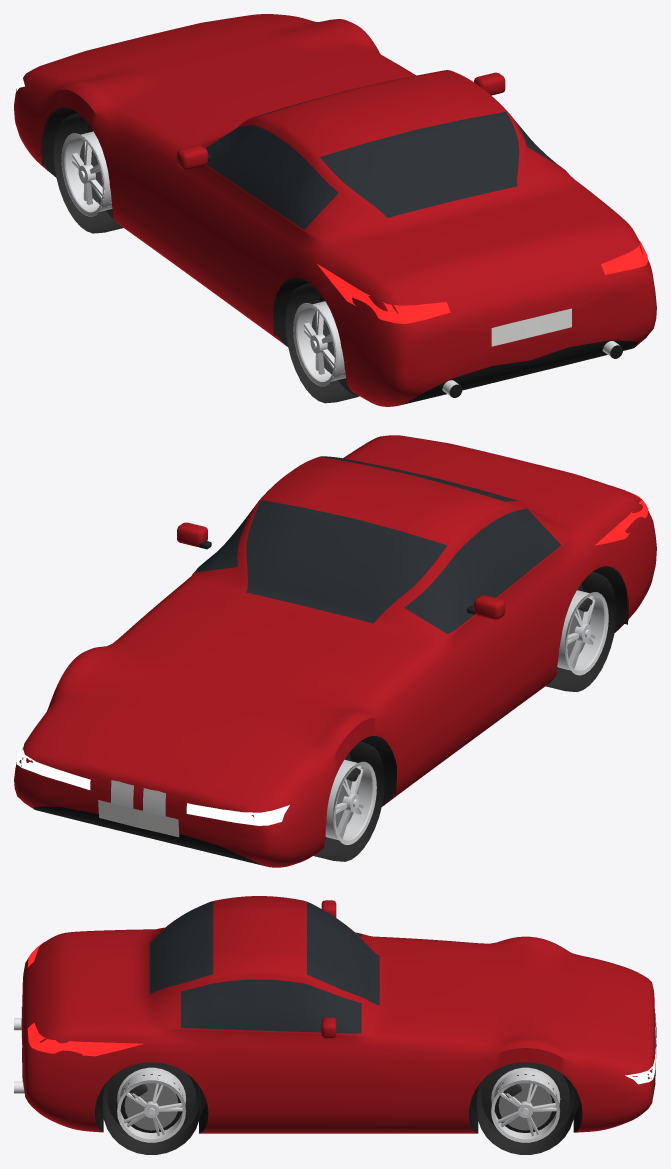
3 views of the same model, one above another, from view 1: azimuth 30°, elevation 25°; view 2: azimuth 150°, elevation 25°; view 3: azimuth 270°, elevation 25° (orthographic). The views are drawn at different scales.
Visible parts, largest first — view 1: Body, Wheel_RL, Wheel_FL; view 2: Body, Wheel_FL, Wheel_RL; view 3: Body, Wheel_FR, Wheel_RR.
Boxes of the visible parts, bbox=[...] form: Body: bbox=[14, 14, 656, 406]; Wheel_RL: bbox=[285, 283, 359, 403]; Wheel_FL: bbox=[53, 113, 123, 233]; Body: bbox=[14, 435, 656, 867]; Wheel_FL: bbox=[313, 741, 384, 861]; Wheel_RL: bbox=[546, 572, 616, 691]; Body: bbox=[14, 896, 656, 1133]; Wheel_FR: bbox=[476, 1062, 574, 1154]; Wheel_RR: bbox=[102, 1062, 200, 1154].
Bounding box in the file's own units: 2.01 × 1.28 × 4.3.
